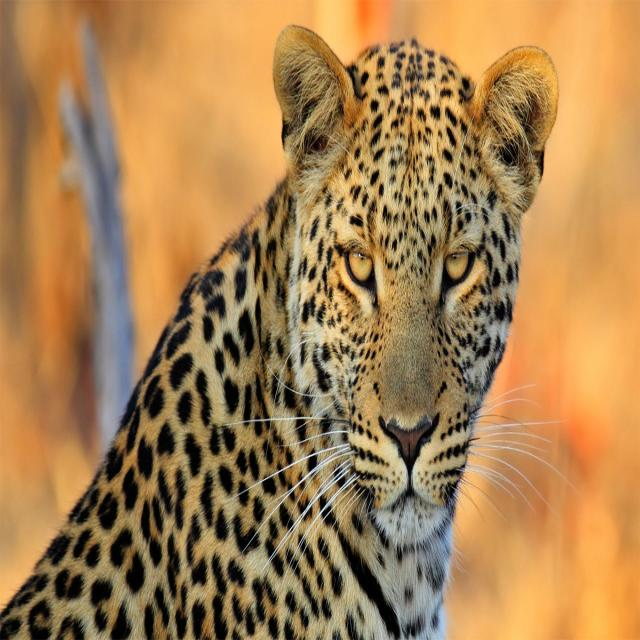Leopard: (8, 35, 558, 639)
